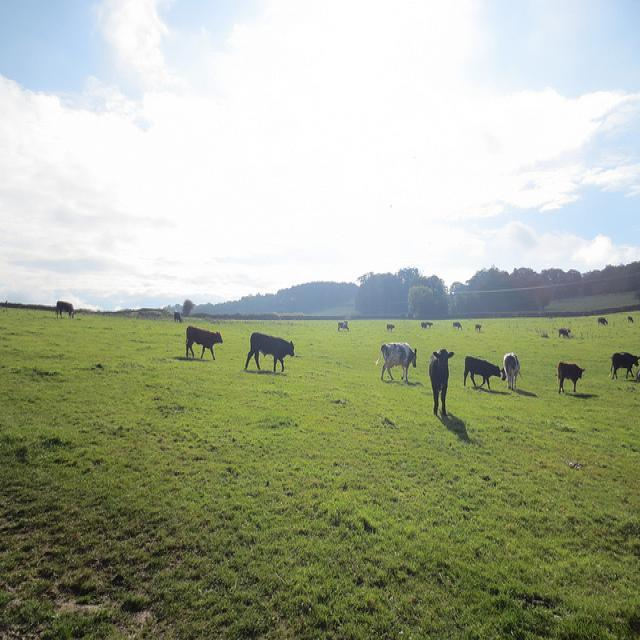cow: (171, 307, 635, 333), (242, 329, 293, 371), (425, 345, 453, 416), (374, 340, 416, 381), (184, 321, 222, 359), (464, 356, 500, 389), (606, 348, 639, 379), (556, 360, 584, 391), (498, 351, 520, 389), (55, 299, 73, 319), (557, 325, 569, 336), (336, 319, 348, 329), (451, 319, 461, 328), (474, 323, 481, 329)
